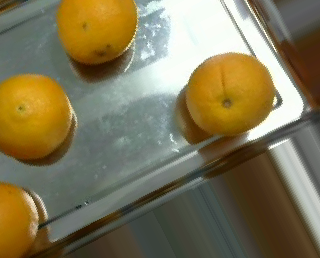Orange: (184, 53, 274, 135), (1, 73, 73, 160), (55, 1, 138, 65)
